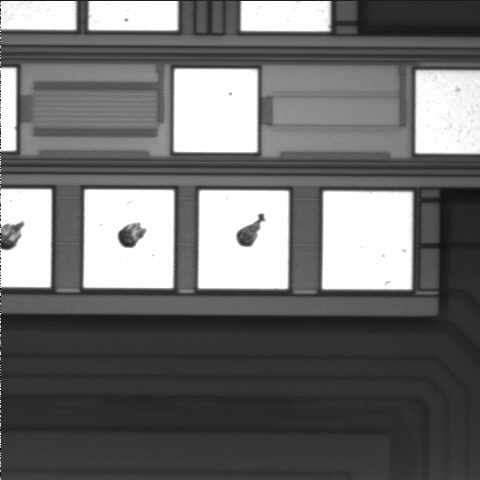pad: (198, 190, 289, 289), (84, 190, 174, 288), (322, 191, 412, 289), (174, 69, 258, 152)
